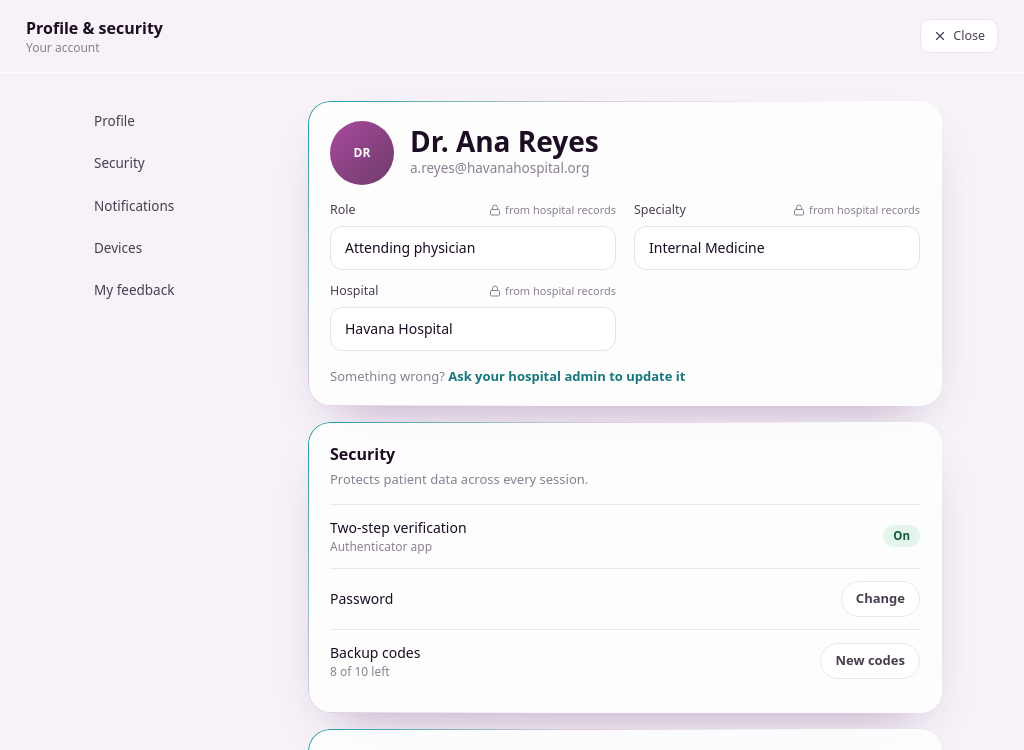
Test: AccountView › changes the password, and explains a wrong current password
Click the button with aria-label "Change password".
click(880, 598)  # box [841, 580, 920, 616]
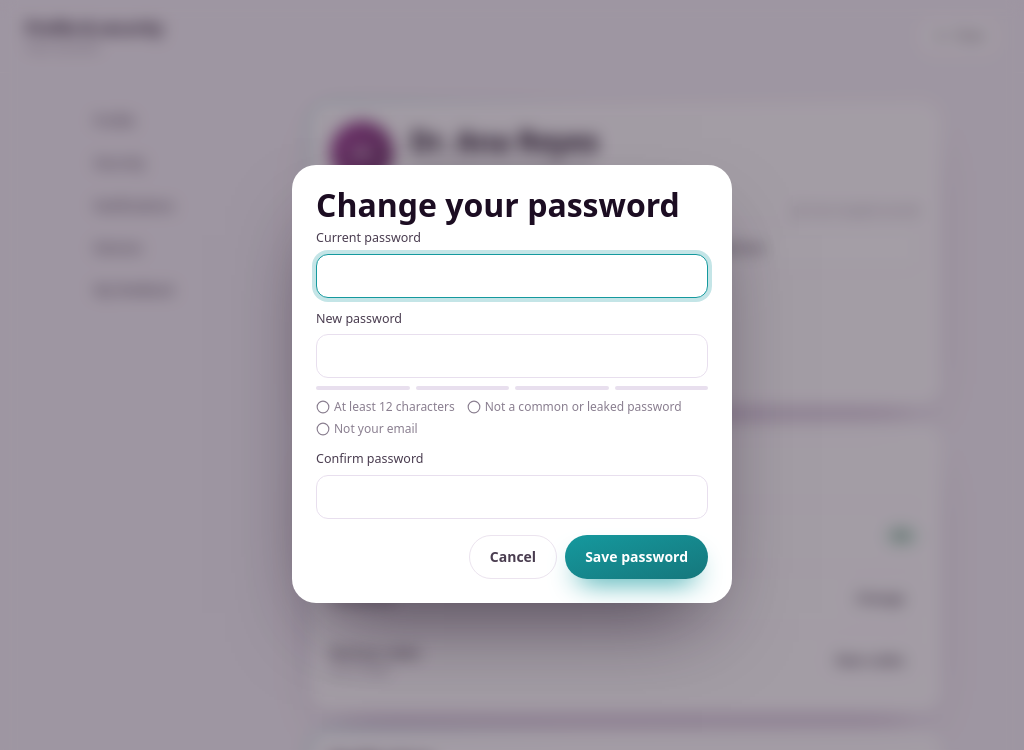
Type "wrong" into the password field labelled "Current password".
click(512, 276); type("wrong")  # box [316, 254, 708, 298]
Type "tram-lantern-okra" into the password field labelled "New password".
click(512, 356); type("tram-lantern-okra")  # box [316, 334, 708, 378]
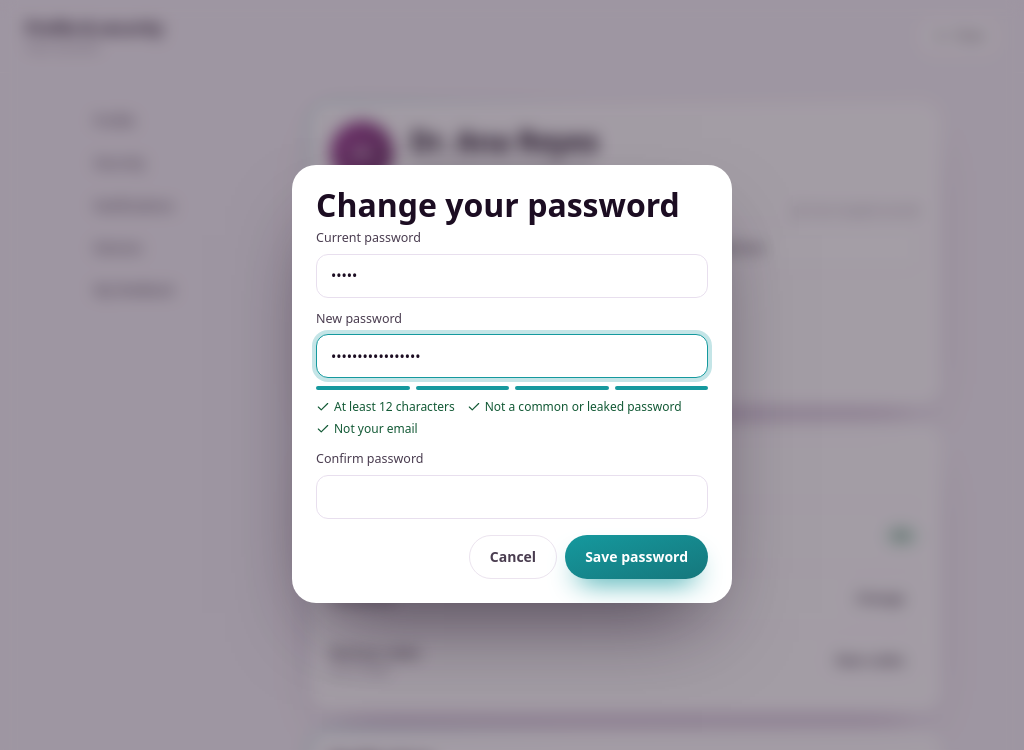
Type "tram-lantern-okra" into the password field labelled "Confirm password".
click(512, 497); type("tram-lantern-okra")  # box [316, 475, 708, 519]
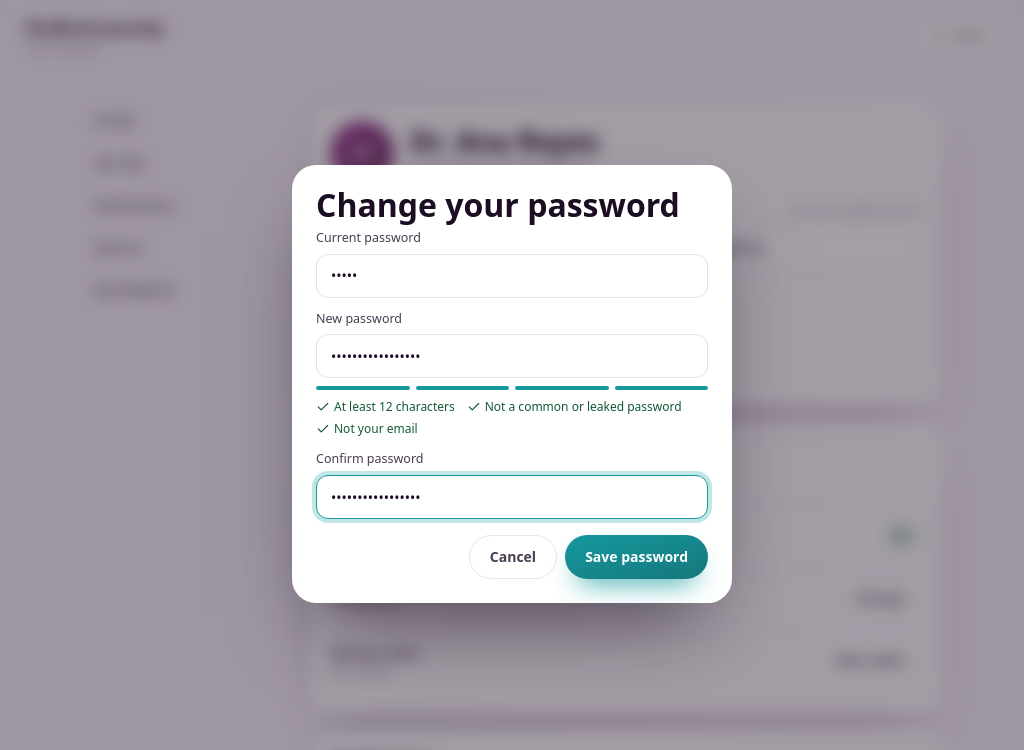
Click the button "Save password".
click(637, 557)  # box [565, 535, 708, 579]
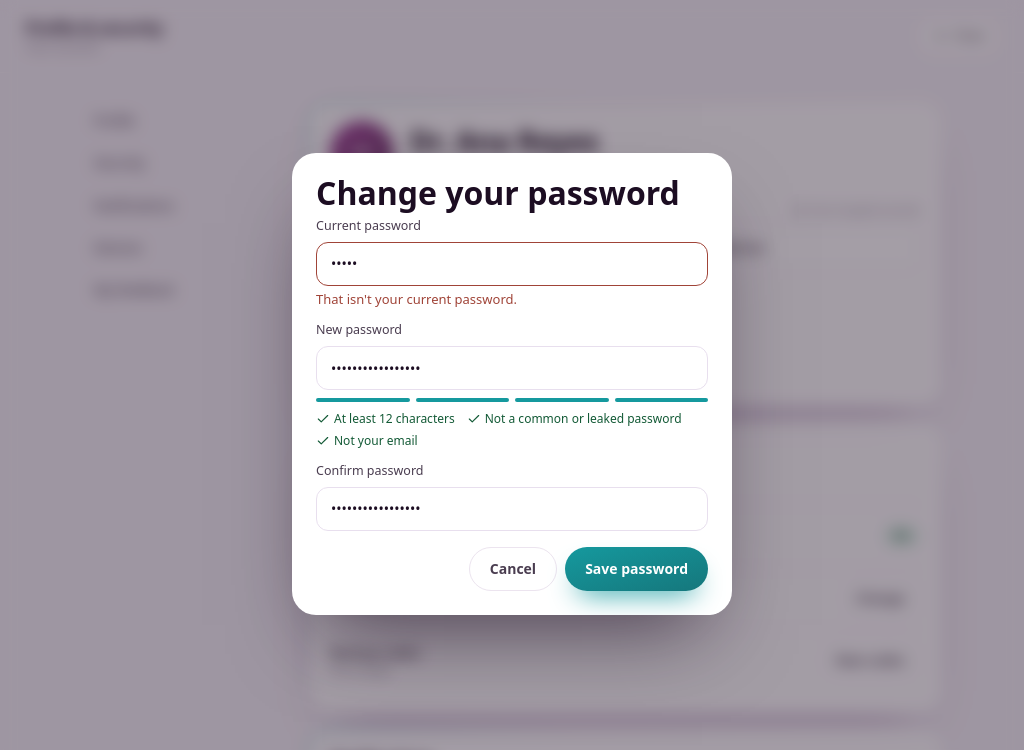
Expected: the text "That isn't your current password." is shown, [316, 290, 517, 308]
Type "pw" into the password field labelled "Current password".
click(512, 264); type("pw")  # box [316, 242, 708, 286]
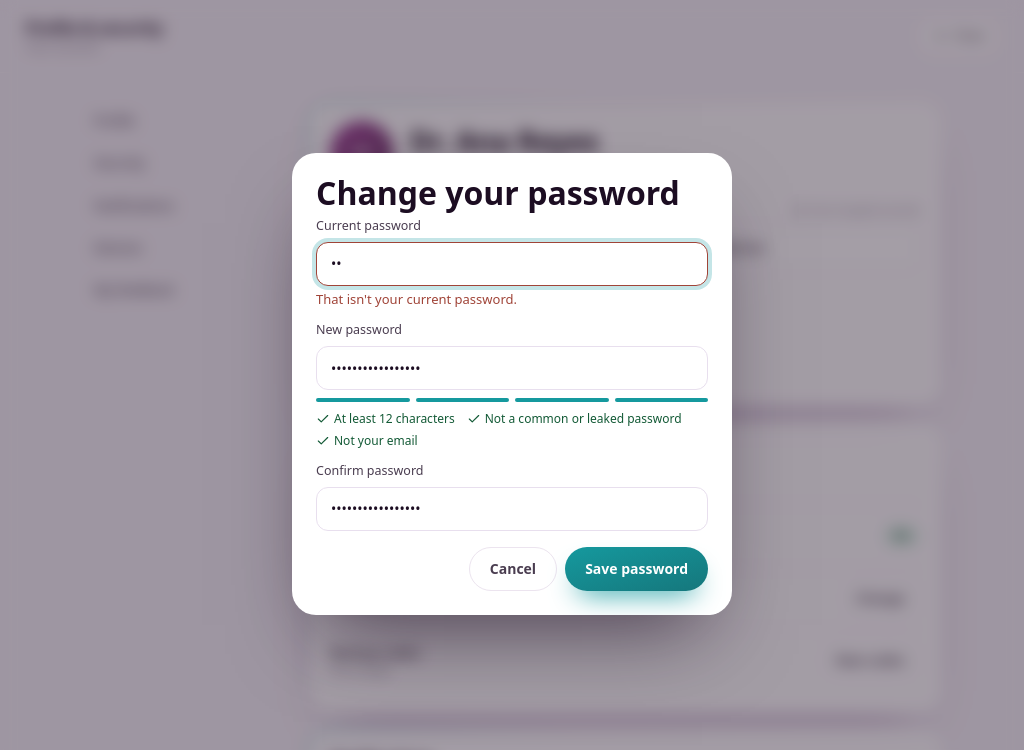
Click the button "Save password".
click(637, 569)  # box [565, 547, 708, 591]
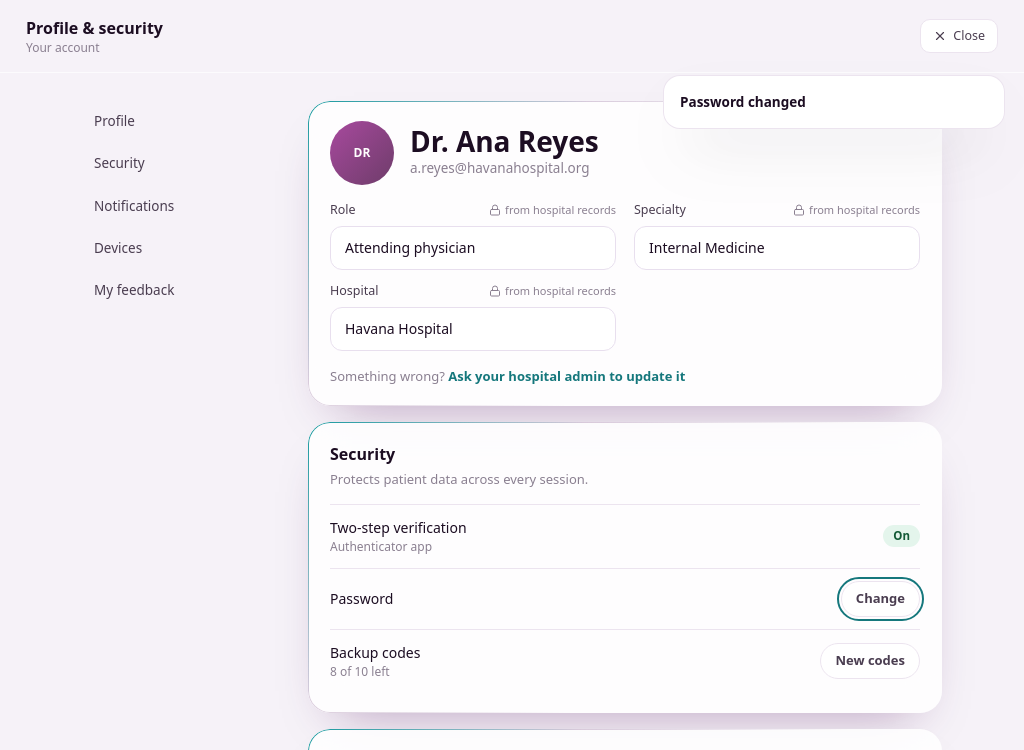
Expected: the text "Password changed" is shown, [680, 93, 806, 111]
